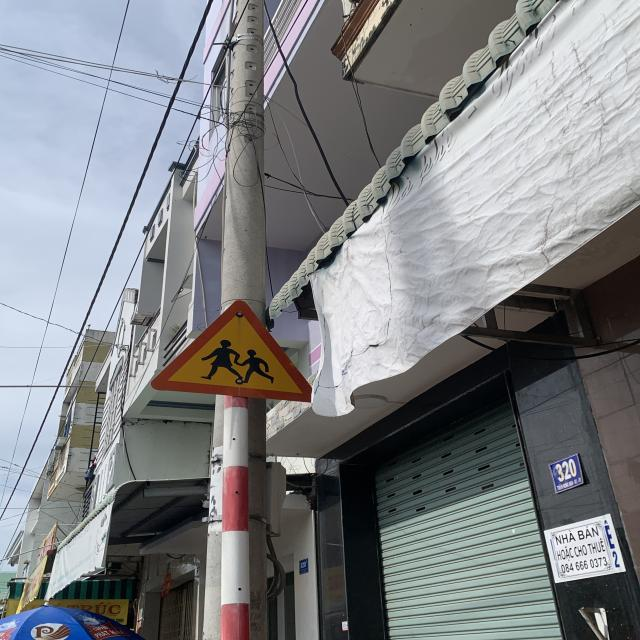Vong_Xuyen: (152, 298, 312, 401)
